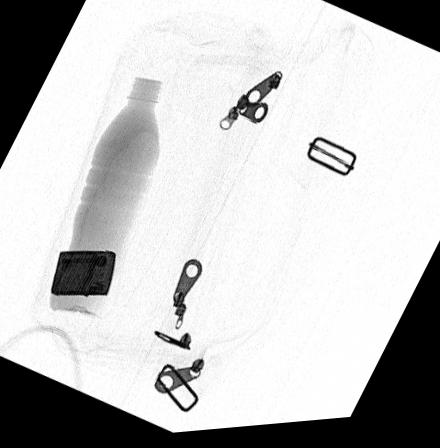Lighter: (49, 251, 115, 298)
